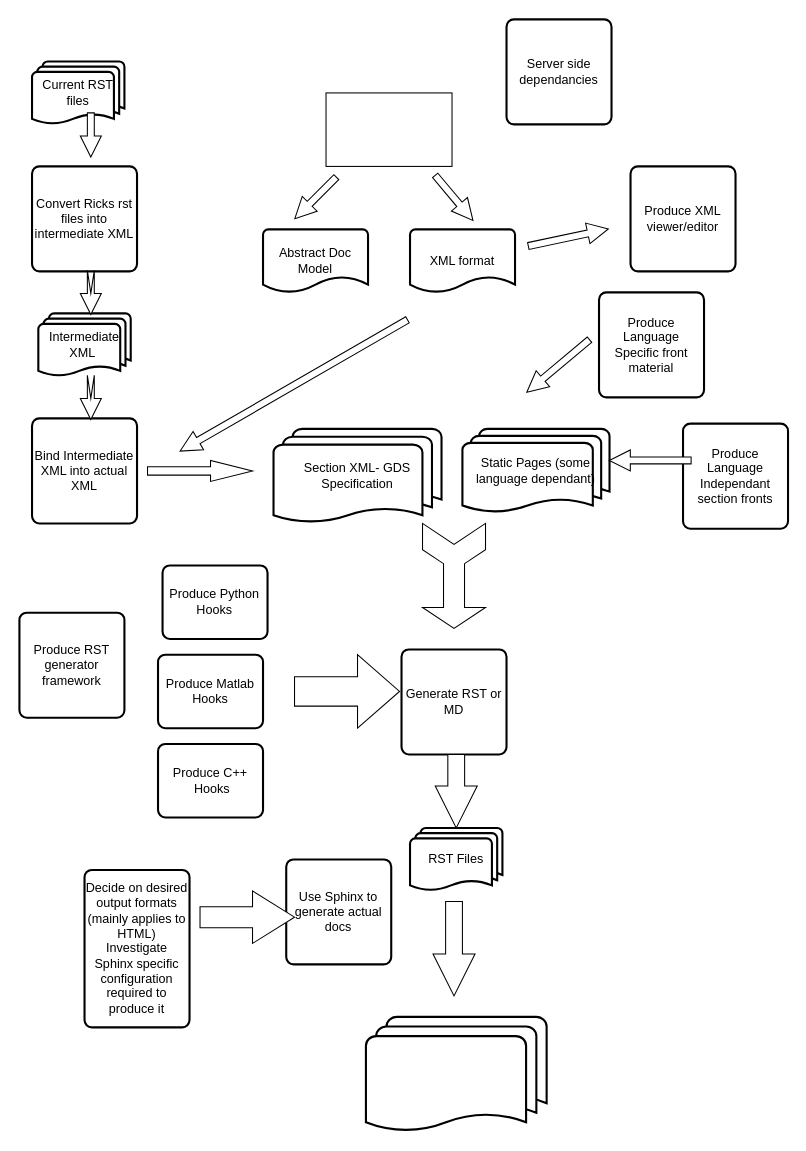
Image size: 806x1151. Some labels were removed from this diagram. The shapes that lost their labels are listed below. From the top down, each one's box as (x1, y1, x2, y2) in pixels, then its label:
(325, 92, 452, 166): decide abstract document model and XML format
(364, 1015, 547, 1133): The Docs!!
